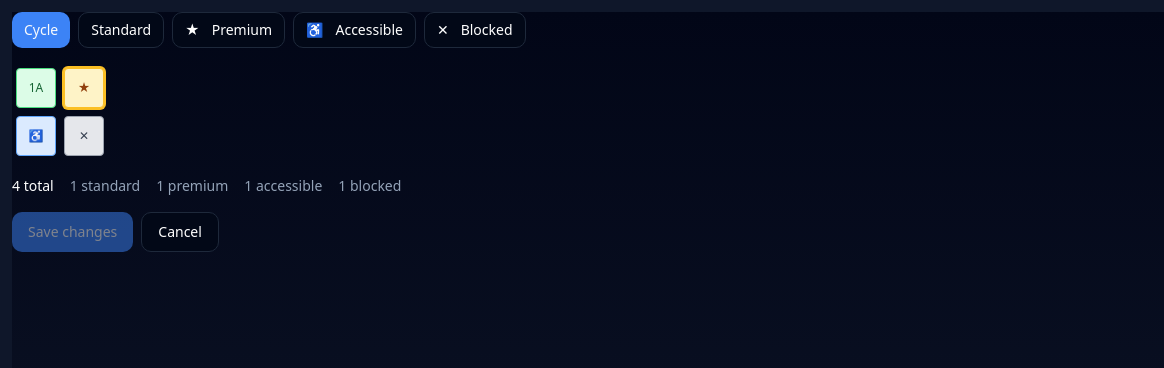
Test: SeatMapEditor › click to cycle seat type › cycles PREMIUM to ACCESSIBLE on click
Click the cell named "Seat 1B, Premium" at (84, 88), box [64,68,104,108]
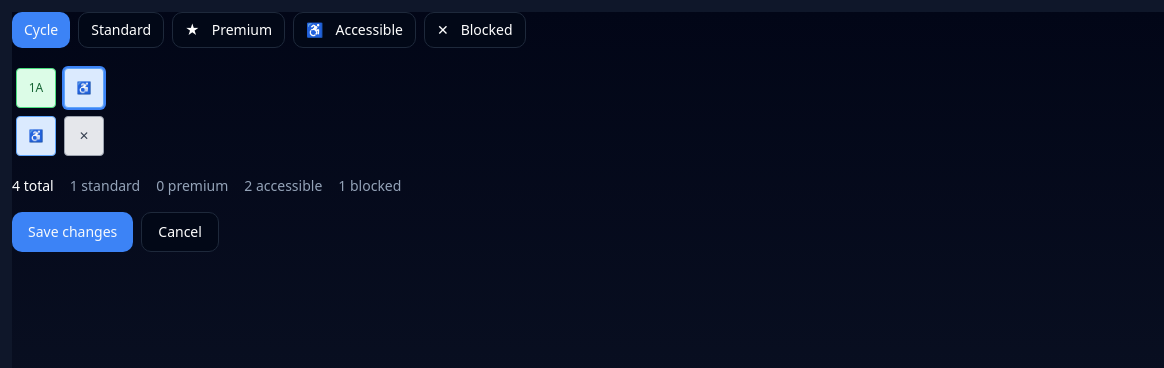
Expected: the cell named "Seat 1B, Accessible" is shown, [64,68,104,108]
